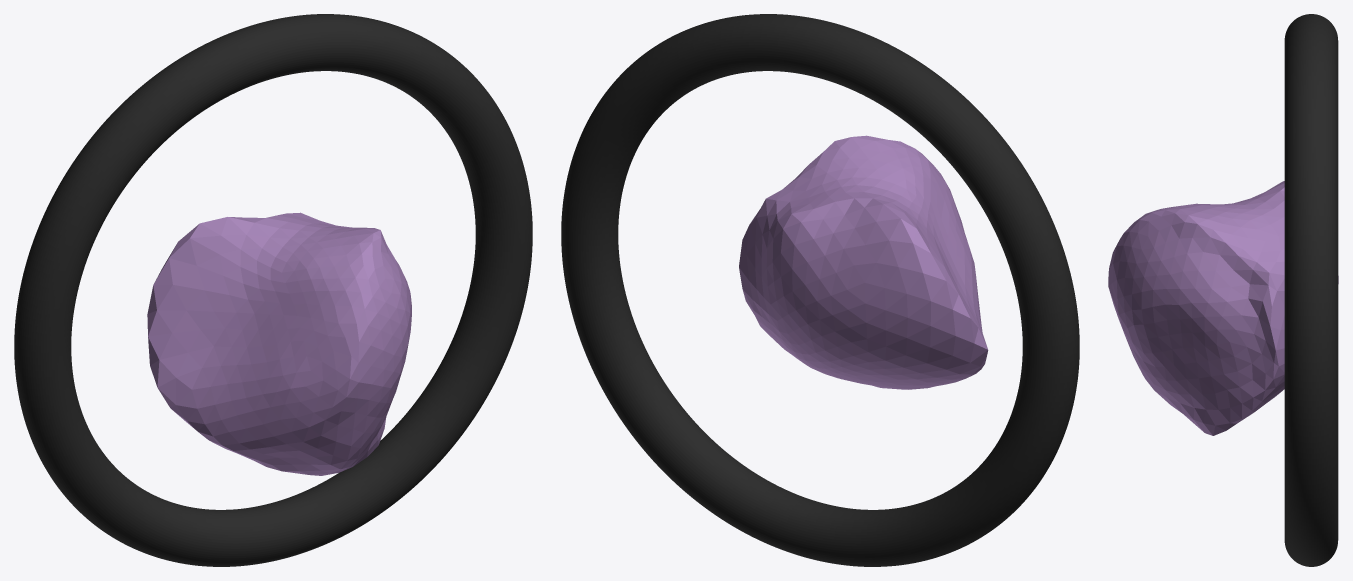
3 renders of one model, left to right at view 1: azimuth 30°, elevation 25°; view 2: azimuth 150°, elevation 25°; view 3: azimuth 270°, elevation 25°, orthographic. The views are drawn at different scales.
Parts seen in each view (by area): view 1: fixed_CAD_Ring, actual014_body_inferred_base_gray; view 2: fixed_CAD_Ring, actual014_body_inferred_base_gray; view 3: actual014_body_inferred_base_gray, fixed_CAD_Ring.
Boxes of the visible parts, x1,y1,x2,y2 form: fixed_CAD_Ring: [14, 14, 532, 566]; actual014_body_inferred_base_gray: [147, 212, 411, 475]; fixed_CAD_Ring: [561, 14, 1079, 566]; actual014_body_inferred_base_gray: [739, 135, 988, 389]; actual014_body_inferred_base_gray: [1108, 181, 1338, 435]; fixed_CAD_Ring: [1284, 14, 1338, 566].
Size of the model in its own units: 0.0124 by 0.0124 by 0.00517.
